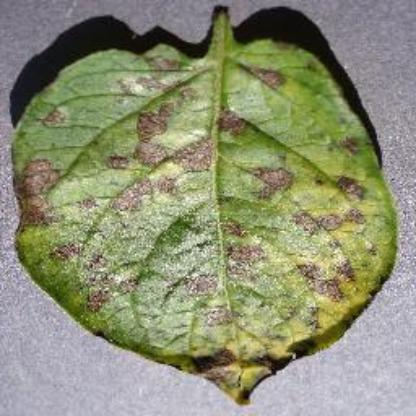Early-Blight: (11, 7, 400, 401)
